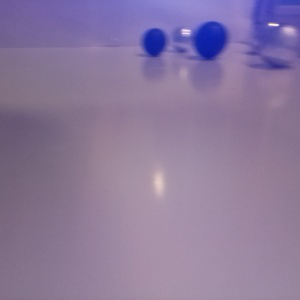alive_ball: (261, 24, 300, 67), (251, 22, 284, 55), (172, 27, 194, 52)
dead_ball: (193, 21, 227, 59), (143, 28, 165, 56)
